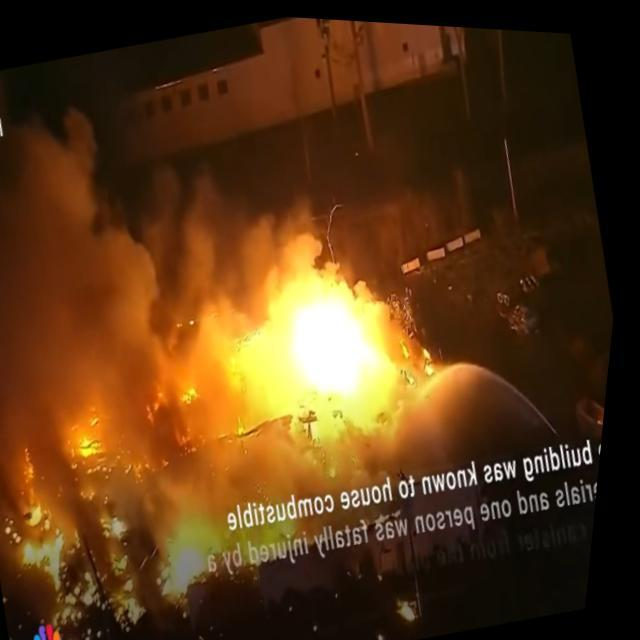fire: (144, 236, 356, 498), (187, 302, 446, 498), (238, 278, 407, 442), (15, 502, 75, 578), (163, 531, 221, 599), (79, 419, 109, 461), (110, 502, 142, 538)
